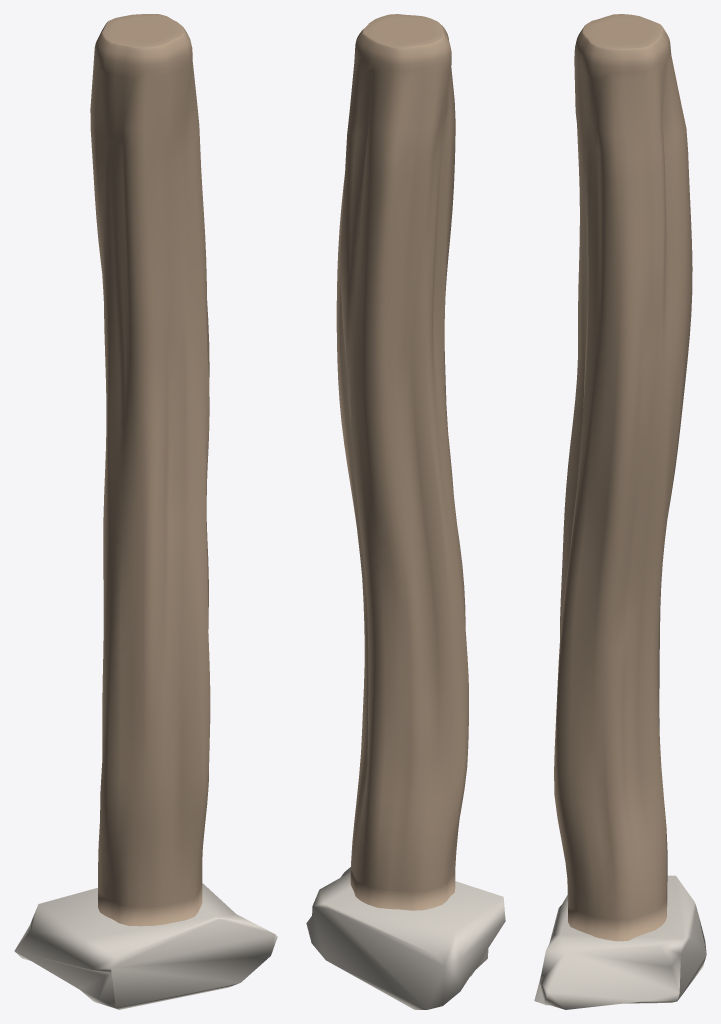
File: bagana-f2-3x12-v2.glb
3 views of the same model, side by side, from view 1: azimuth 30°, elevation 25°; view 2: azimuth 150°, elevation 25°; view 3: azimuth 270°, elevation 25° (orthographic). The views are drawn at different scales.
Parts seen in each view (by area): view 1: bagana_wood, bagana_stone; view 2: bagana_wood, bagana_stone; view 3: bagana_wood, bagana_stone.
Boxes of the visible parts, x1=… form: bagana_wood: x1=90, y1=14, x2=210, y2=926; bagana_stone: x1=14, y1=883, x2=277, y2=1009; bagana_wood: x1=336, y1=14, x2=468, y2=910; bagana_stone: x1=306, y1=867, x2=505, y2=1009; bagana_wood: x1=554, y1=14, x2=692, y2=941; bagana_stone: x1=534, y1=875, x2=706, y2=1009.
Bounding box in the file's own units: 0.6304 × 3.01 × 0.4895.
